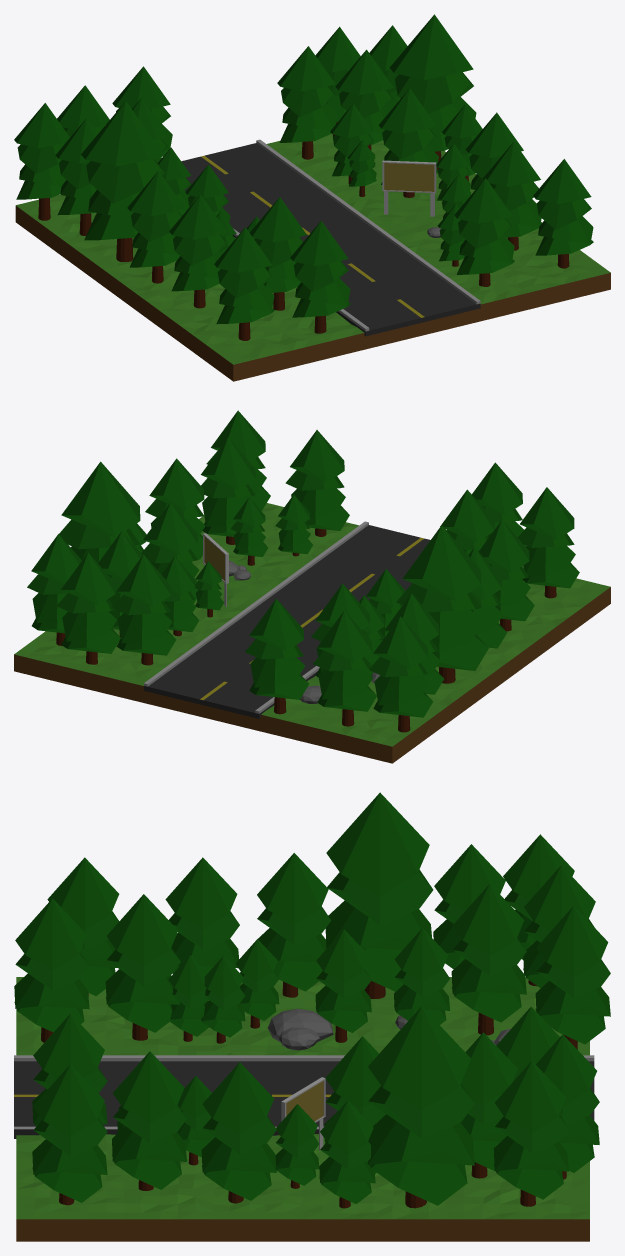
Rendered from omgeving.2257e2f1.glb.
The picture shows the model from 3 angles, top to bottom: view 1: azimuth 30°, elevation 25°; view 2: azimuth 150°, elevation 25°; view 3: azimuth 270°, elevation 25°; orthographic projection. The views are drawn at different scales.
Parts seen in each view (by area): view 1: Ground, Road, Cone.010, Cone.026, Cone.004, Cone.092, Cone.028, Cone.019, Cone.020, Cone.006, Cone.007, Cone.016 (+20 smaller); view 2: Ground, Road, Cone.010, Cone.026, Cone.016, Cone.015, Cone.014, Cone.031, Cone.028, Cone.004, Cone.020, Cone.021 (+18 smaller); view 3: Ground, Cone.026, Cone.010, Road, Cone.013, Cone.030, Cone.022, Cone.019, Cone.021, Cone.014, Cone.005, Cone.092 (+22 smaller).
Part boxes in pixels (left/top/right/bottom): Ground: left=15, top=133, right=610, bottom=381; Road: left=181, top=139, right=480, bottom=336; Cone.010: left=81, top=101, right=165, bottom=261; Cone.026: left=389, top=14, right=476, bottom=169; Cone.004: left=214, top=227, right=274, bottom=340; Cone.092: left=290, top=220, right=350, bottom=333; Cone.028: left=277, top=46, right=337, bottom=159; Cone.019: left=533, top=159, right=593, bottom=268; Cone.020: left=454, top=178, right=514, bottom=286; Cone.006: left=169, top=194, right=227, bottom=308; Cone.007: left=127, top=171, right=185, bottom=283; Cone.016: left=14, top=103, right=69, bottom=220; Ground: left=14, top=503, right=610, bottom=763; Road: left=144, top=521, right=430, bottom=718; Cone.010: left=396, top=525, right=488, bottom=683; Cone.026: left=59, top=461, right=140, bottom=562; Cone.016: left=369, top=616, right=432, bottom=732; Cone.015: left=313, top=610, right=376, bottom=726; Cone.014: left=245, top=598, right=308, bottom=714; Cone.031: left=57, top=552, right=120, bottom=664; Cone.028: left=112, top=554, right=176, bottom=665; Cone.004: left=517, top=487, right=579, bottom=598; Cone.020: left=285, top=430, right=349, bottom=536; Cone.021: left=201, top=438, right=256, bottom=544; Ground: left=16, top=977, right=589, bottom=1241; Cone.026: left=368, top=1006, right=474, bottom=1208; Cone.010: left=325, top=792, right=433, bottom=998; Road: left=14, top=1055, right=594, bottom=1138; Cone.013: left=451, top=884, right=526, bottom=1035; Cone.030: left=493, top=1061, right=568, bottom=1206; Cone.022: left=201, top=1062, right=276, bottom=1203; Cone.019: left=32, top=1064, right=107, bottom=1205; Cone.021: left=112, top=1051, right=186, bottom=1190; Cone.014: left=535, top=906, right=610, bottom=1049; Cone.005: left=105, top=894, right=180, bottom=1040; Cone.092: left=14, top=898, right=89, bottom=1042.
Bounding box in the file's own units: 16.2 × 6.47 × 15.45.
